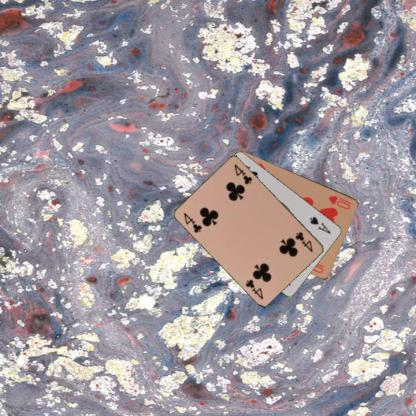10h: (326, 192, 353, 211)
4c: (181, 210, 203, 234), (293, 229, 314, 254)
As: (308, 214, 332, 235)
